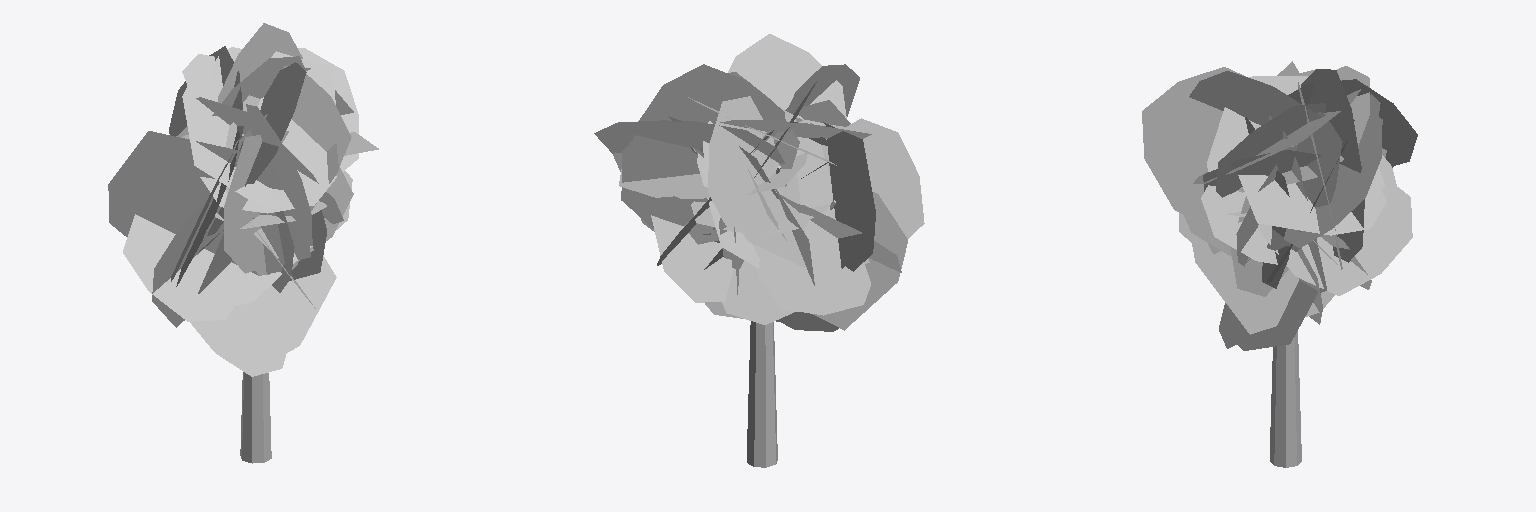
File: tree2.obj
The picture shows the model from 3 angles: view 1: azimuth 30°, elevation 25°; view 2: azimuth 150°, elevation 25°; view 3: azimuth 270°, elevation 25°; orthographic projection.
Parts seen in each view (by area): view 1: leafs, leafs.019, tree, leafs.005, leafs.004, leafs.023, leafs.028, leafs.029, leafs.015, leafs.016, leafs.007, leafs.024 (+2 smaller); view 2: leafs, leafs.022, tree, leafs.009, leafs.016, leafs.028, leafs.006, leafs.015, leafs.012, leafs.007, leafs.017, leafs.025 (+1 smaller); view 3: leafs, tree, leafs.016, leafs.007, leafs.015, leafs.030, leafs.028, leafs.014, leafs.002, leafs.008.
Part boxes in pixels (x1,y1,x2,y2): leafs: (110,44,378,376); leafs.019: (108,132,297,269); tree: (240,372,271,463); leafs.005: (176,65,348,148); leafs.004: (212,51,335,212); leafs.023: (123,214,244,317); leafs.028: (246,104,310,225); leafs.029: (224,131,288,271); leafs.015: (245,23,302,72); leafs.016: (231,48,358,171); leafs.007: (245,112,293,186); leafs.024: (242,136,294,291); leafs: (594,34,924,331); leafs.022: (752,220,870,315); tree: (690,147,835,467); leafs.009: (651,216,733,302); leafs.016: (612,120,784,163); leafs.028: (785,64,859,115); leafs.006: (714,120,871,138); leafs.015: (647,76,785,225); leafs.012: (722,269,762,324); leafs.007: (769,49,846,119); leafs.017: (613,72,799,243); leafs.025: (710,96,796,245); leafs: (1142,61,1417,350); tree: (1270,331,1301,467); leafs.016: (1285,96,1380,247); leafs.007: (1201,71,1321,123); leafs.015: (1325,69,1364,262); leafs.030: (1196,263,1317,334); leafs.028: (1147,86,1214,223); leafs.014: (1239,169,1384,234); leafs.002: (1224,76,1307,144); leafs.008: (1267,170,1334,251).
Size of the model in its own units: 11.75 by 17.41 by 10.7.